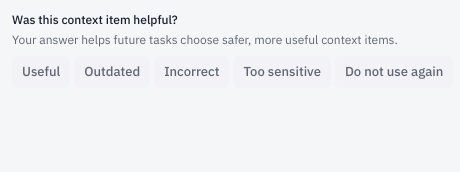
it: FeedbackControls › confirms outdated feedback without vague review wording
The width and height of the screenshot is (460, 172).
Click the button "Outdated". click: (112, 72)
box: [74,56,150,88]
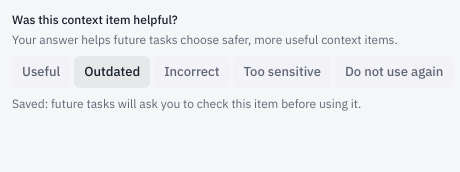
Expected: the text "Saved: future tasks will ask you to check this item before using it." is shown, [12,96,361,110]
